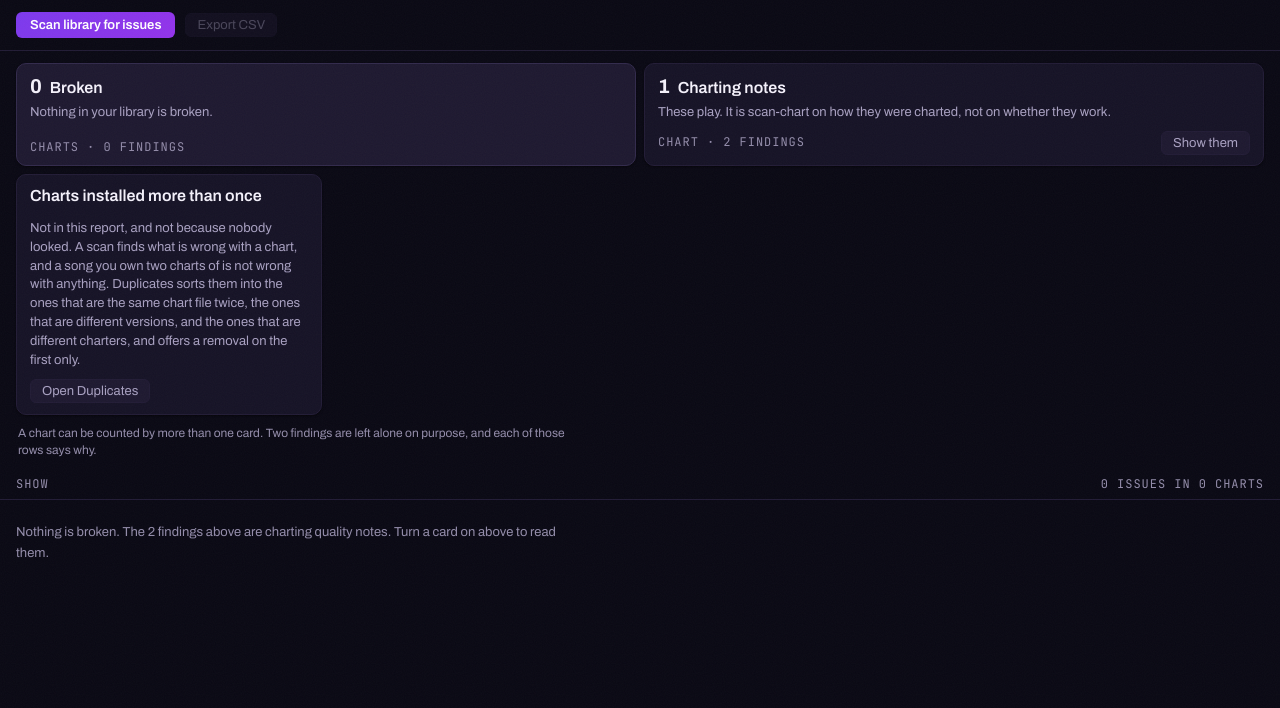
Tools: duplicate findings on one chart › draws both copies of an identical finding instead of throwing
This screenshot has width=1280, height=708.
What coordinates should you click on to do the following:
click the button with aria-label ": Charting notes"
I would click on:
 (1206, 143)
Its box is [1161,131,1250,155].
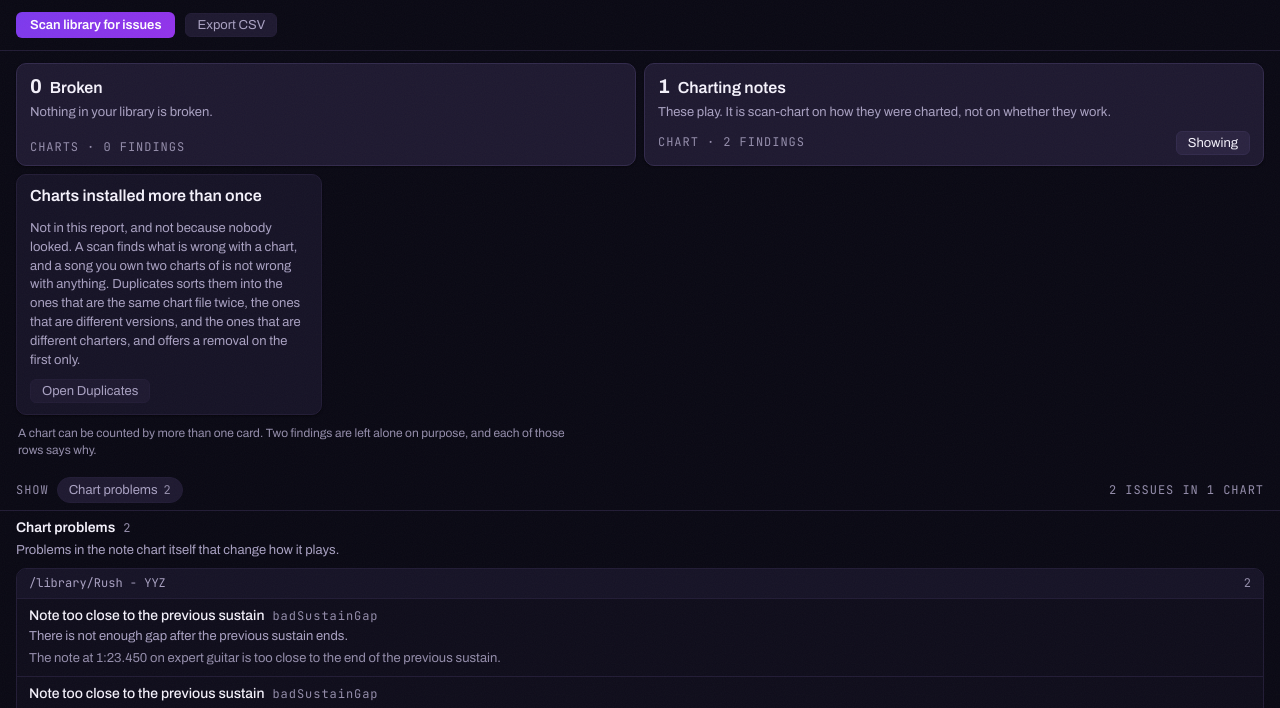
expect the text "Note too close to the previous sustain" is shown 2 times: met, box [29,607,264,624]; [29,685,264,702]
expect the text "/library/Rush - YYZ" is shown: met, box [29,575,166,591]
expect the text "2 ISSUES IN 1 CHART" is shown: met, box [1109,482,1264,498]
